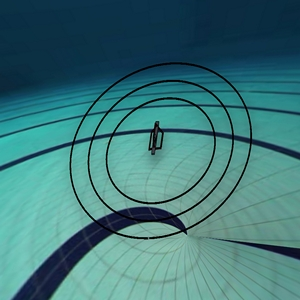submarine: (139, 112, 181, 166)
